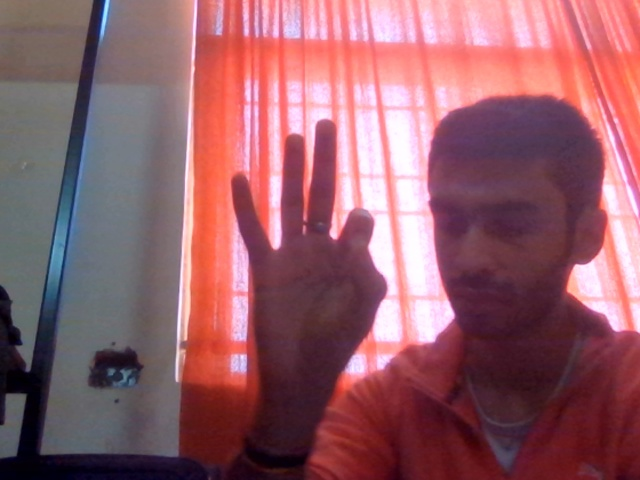F: (178, 104, 415, 480)
